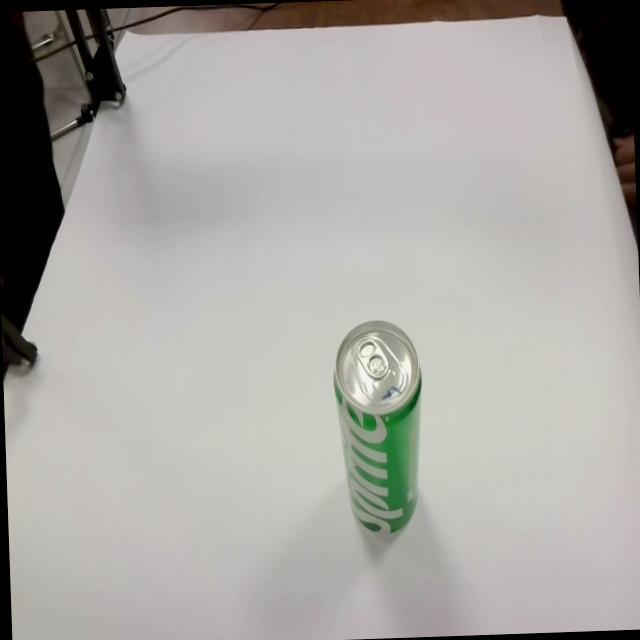debris: (329, 316, 428, 538)
